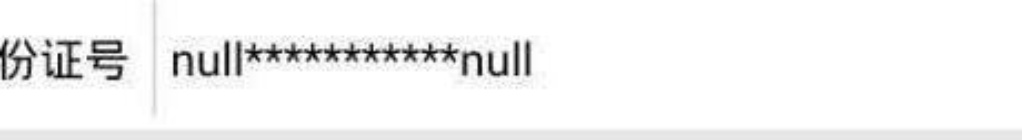EditText: (1, 1, 1021, 139)
